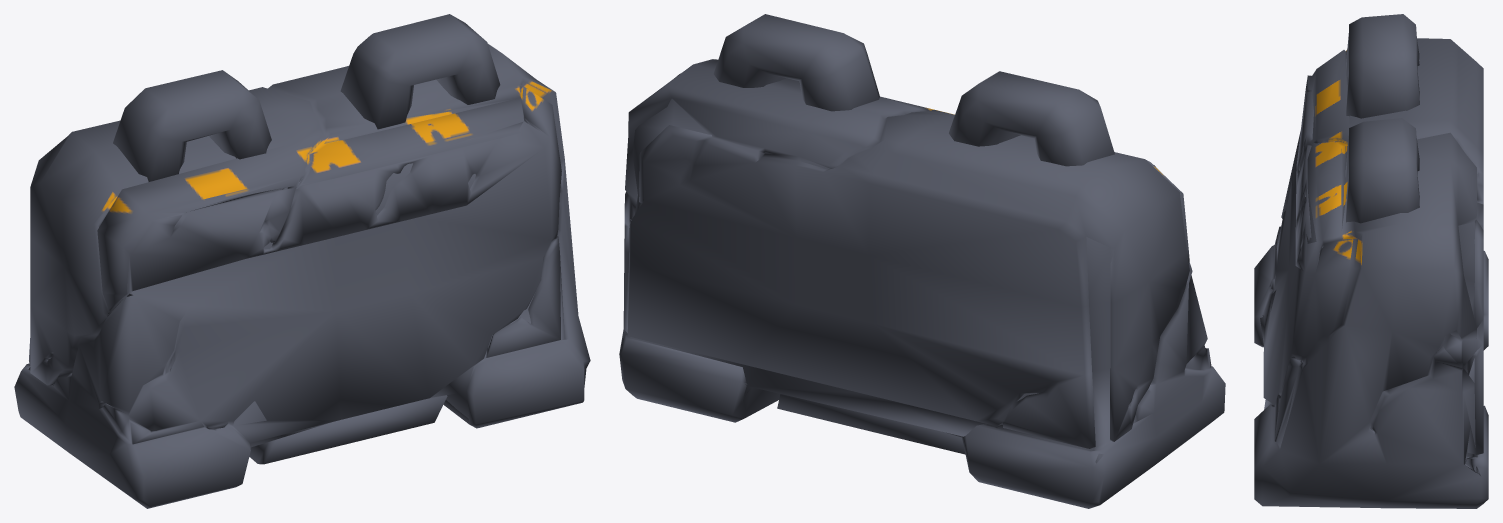
The model's file is Cover_Intact.fbx.
3 views of the same model, side by side, from view 1: azimuth 30°, elevation 25°; view 2: azimuth 150°, elevation 25°; view 3: azimuth 270°, elevation 25° (orthographic). The views are drawn at different scales.
Visible parts, largest first — view 1: tripo_node_5bcdfdb0-aef6-4b3f-b9bb-1969684533cc; view 2: tripo_node_5bcdfdb0-aef6-4b3f-b9bb-1969684533cc; view 3: tripo_node_5bcdfdb0-aef6-4b3f-b9bb-1969684533cc.
Boxes of the visible parts, bbox=[...] form: tripo_node_5bcdfdb0-aef6-4b3f-b9bb-1969684533cc: bbox=[14, 14, 590, 508]; tripo_node_5bcdfdb0-aef6-4b3f-b9bb-1969684533cc: bbox=[619, 14, 1225, 508]; tripo_node_5bcdfdb0-aef6-4b3f-b9bb-1969684533cc: bbox=[1254, 14, 1488, 508].
Size of the model in its own units: 0.9995 by 0.6968 by 0.4536.
